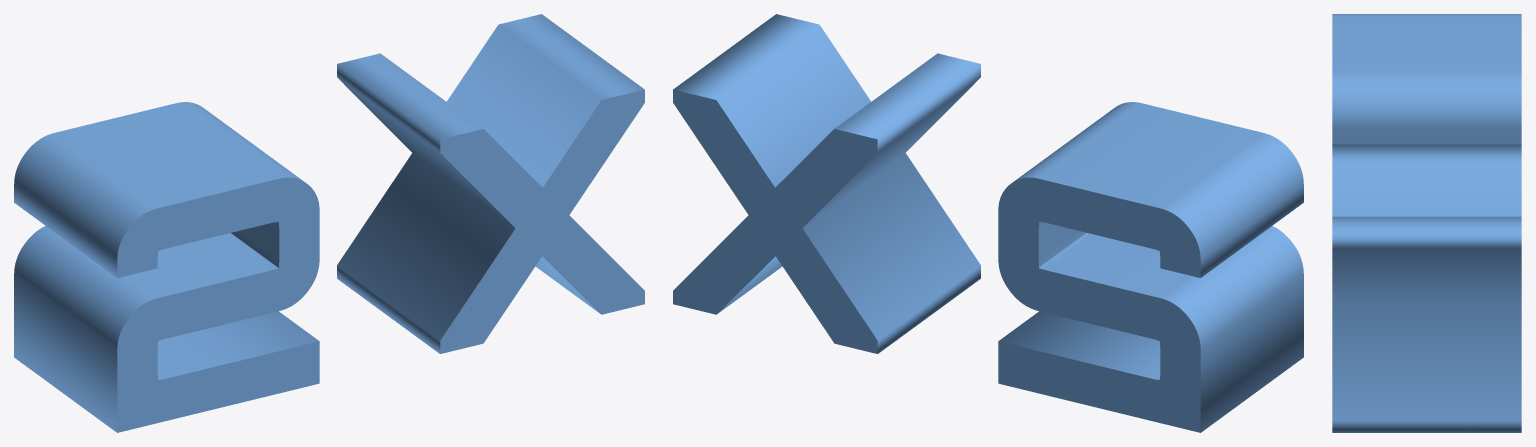
File: LowPolyDoublePoints.fbx
The picture shows the model from 3 angles, left to right: view 1: azimuth 30°, elevation 25°; view 2: azimuth 150°, elevation 25°; view 3: azimuth 270°, elevation 25°; orthographic projection. The views are drawn at different scales.
Visible parts, largest first — view 1: Text; view 2: Text; view 3: Text.
Part boxes in pixels (x1=…): Text: x1=14, y1=14, x2=644, y2=432; Text: x1=673, y1=14, x2=1303, y2=432; Text: x1=1332, y1=14, x2=1521, y2=432.
Bounding box in the file's own units: 148 × 57.42 × 50.
